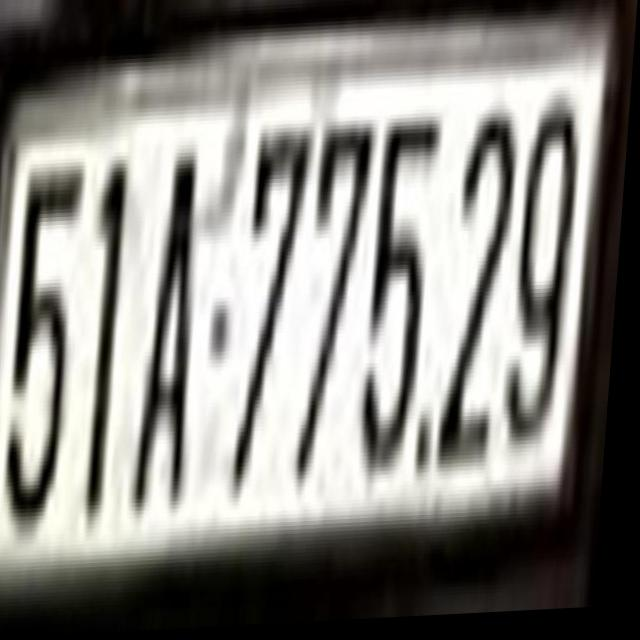1: (83, 157, 131, 531)
2: (444, 102, 521, 481)
5: (362, 114, 445, 500), (4, 163, 85, 530)
7: (235, 115, 316, 509), (302, 112, 378, 494)
9: (508, 104, 584, 463)
A: (139, 134, 213, 509)
